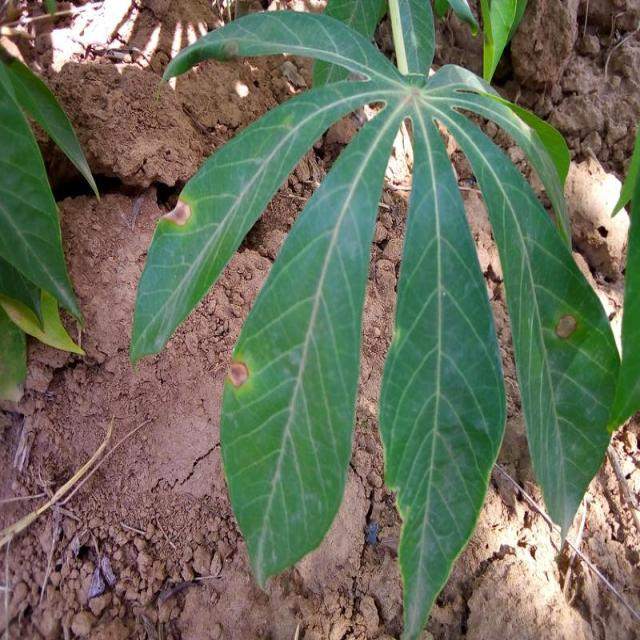cassava leaf: (129, 1, 624, 637), (219, 82, 408, 594), (378, 101, 508, 638)
